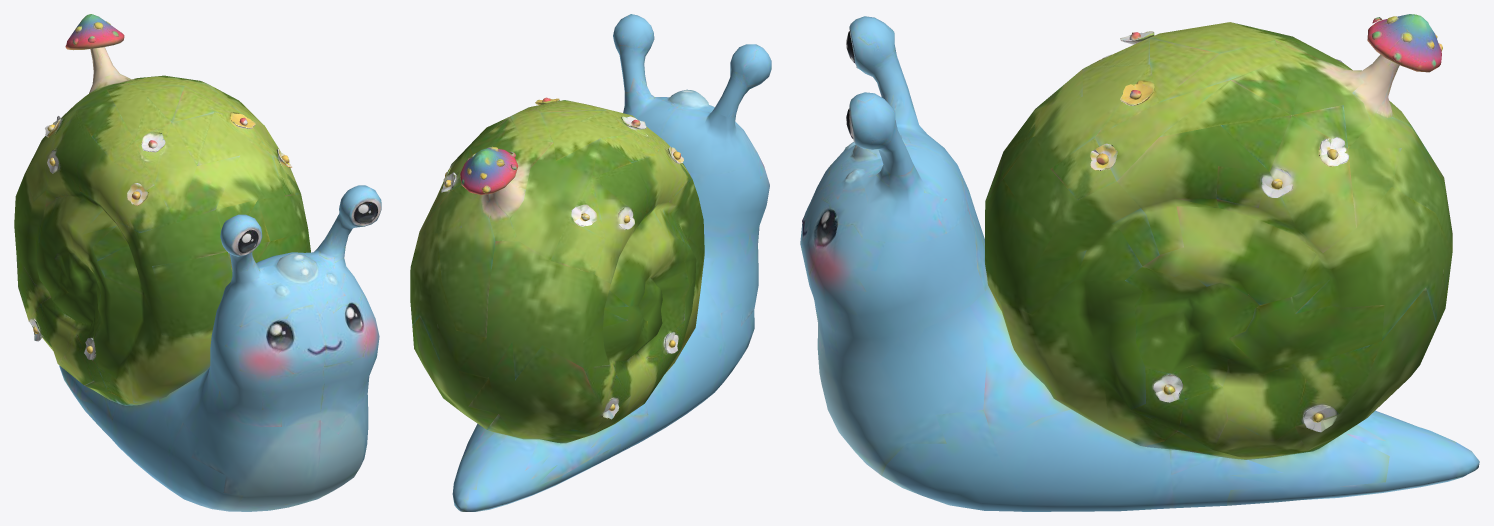
Rendered from mosssnail.glb.
3 views of the same model, side by side, from view 1: azimuth 30°, elevation 25°; view 2: azimuth 150°, elevation 25°; view 3: azimuth 270°, elevation 25° (orthographic). The views are drawn at different scales.
Size of the model in its own units: 0.4302 by 0.7041 by 0.9507.
Materials: 1 (1 with a texture image).
